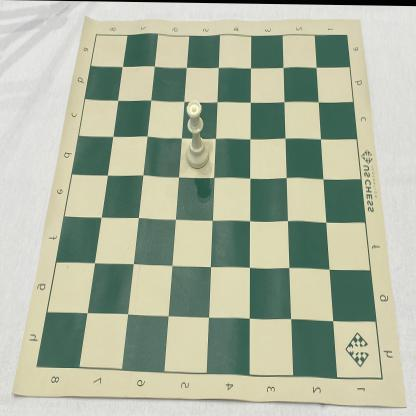white-queen: (186, 99, 209, 169)
